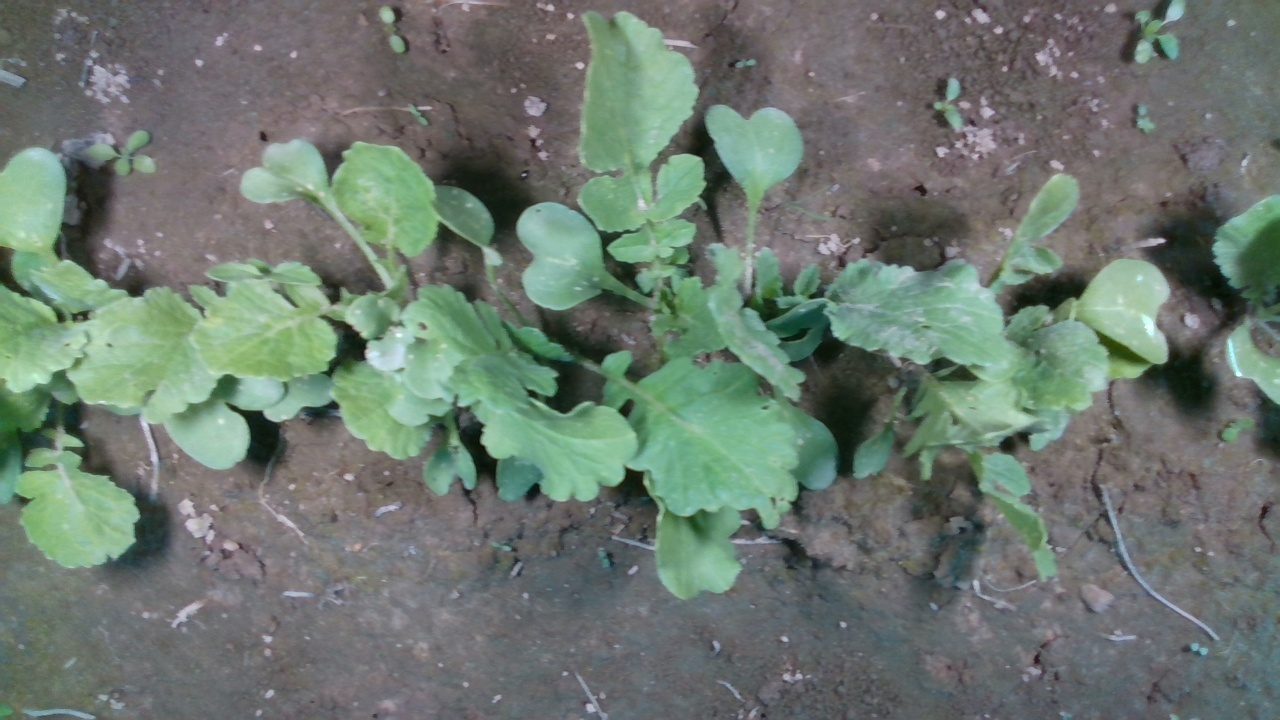weed: (84, 127, 158, 177), (931, 75, 967, 137), (378, 5, 407, 53), (1220, 414, 1255, 443), (409, 102, 428, 126)
